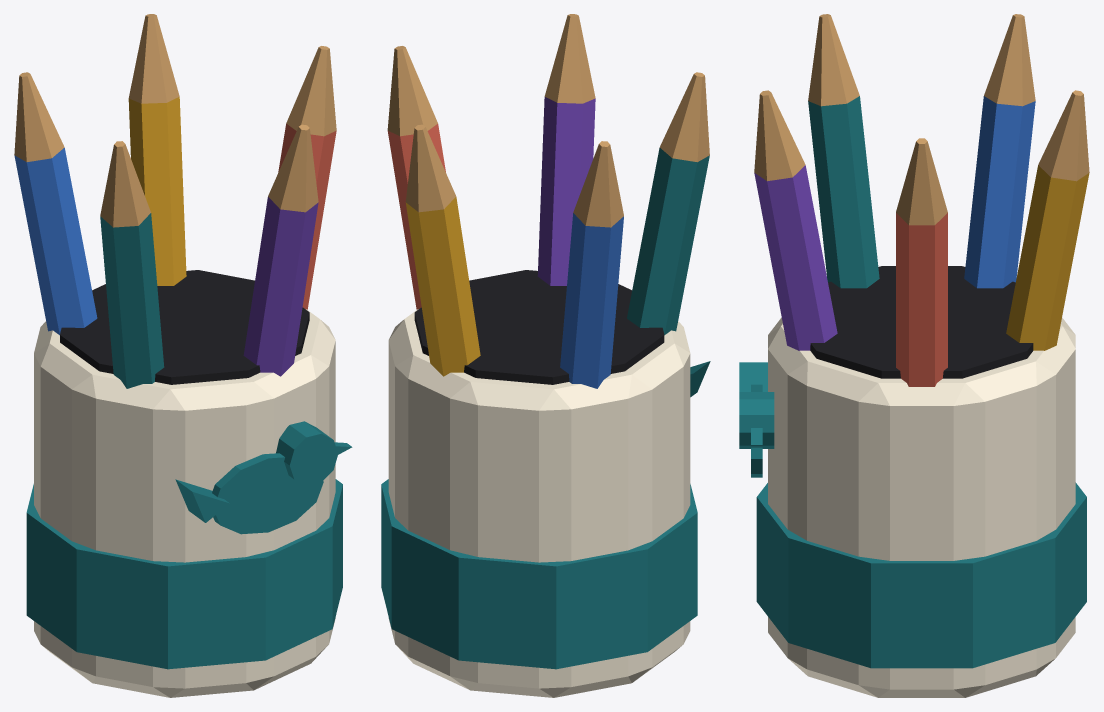
The model's file is pencil_cup.glb.
3 renders of one model, left to right at view 1: azimuth 30°, elevation 25°; view 2: azimuth 150°, elevation 25°; view 3: azimuth 270°, elevation 25°, orthographic. The views are drawn at different scales.
Parts seen in each view (by area): view 1: pencil_cup; view 2: pencil_cup; view 3: pencil_cup.
Boxes of the visible parts, x1,y1,x2,y2 form: pencil_cup: (14, 14, 352, 697); pencil_cup: (381, 14, 710, 697); pencil_cup: (739, 14, 1089, 697).
Size of the model in its own units: 0.1134 by 0.2173 by 0.1209.
